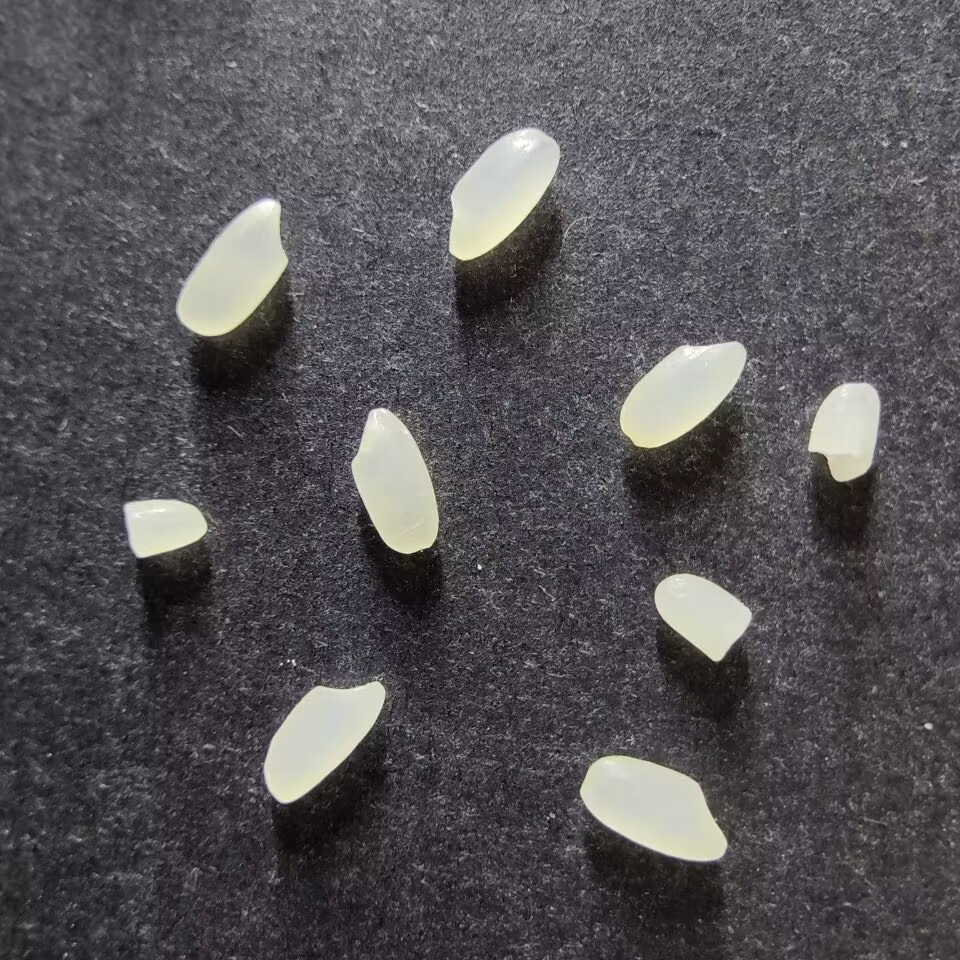broken: (653, 572, 752, 662), (807, 382, 880, 482), (121, 498, 208, 558)
rice: (578, 754, 728, 862), (175, 198, 289, 337), (263, 680, 386, 804), (447, 128, 559, 261), (618, 340, 746, 449), (350, 407, 439, 553)
